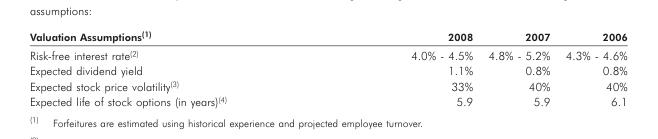table: (28, 28, 626, 107)
table column: (28, 28, 318, 107), (318, 28, 479, 107), (479, 28, 557, 107), (557, 28, 626, 107)
table column header: (28, 28, 626, 45)
table row: (28, 28, 626, 45), (28, 45, 626, 62), (28, 77, 626, 93), (28, 62, 626, 77), (28, 93, 626, 107)
